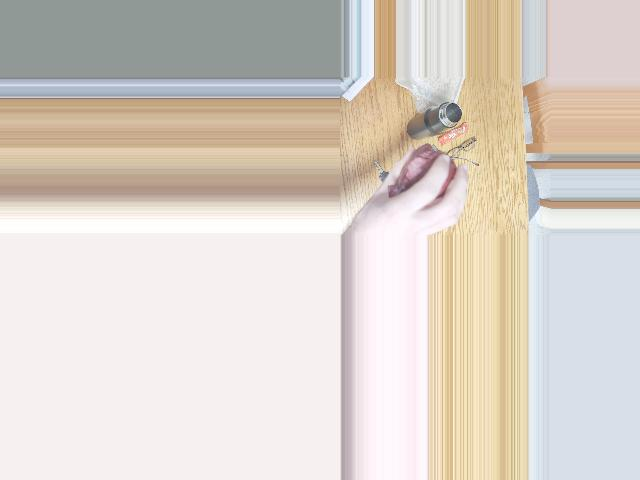onion: (404, 148, 458, 197)
